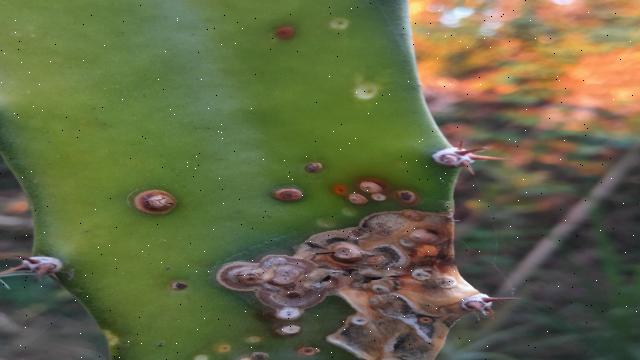stemcanker: (212, 255, 274, 294), (132, 185, 184, 218), (267, 181, 309, 206), (269, 20, 301, 46), (355, 174, 388, 198), (396, 184, 422, 208), (162, 276, 191, 295), (303, 157, 327, 176), (345, 191, 371, 208)
